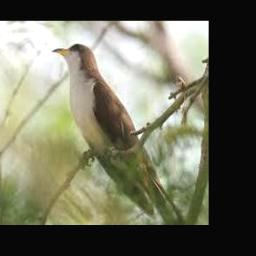Cuckoo: (52, 45, 186, 225)
